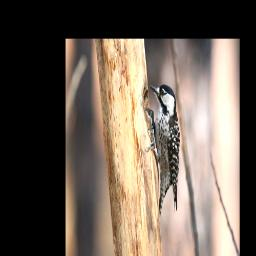Woodpecker: (145, 83, 180, 216)
